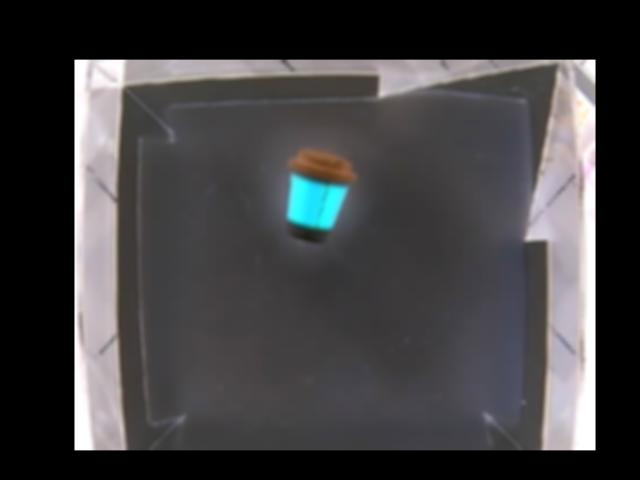Cup: (285, 150, 356, 245)
